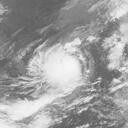cyclone: (36, 45, 87, 89)
